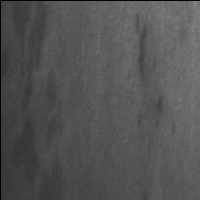inclusion: (2, 3, 44, 133), (127, 3, 167, 136), (40, 68, 70, 190)
